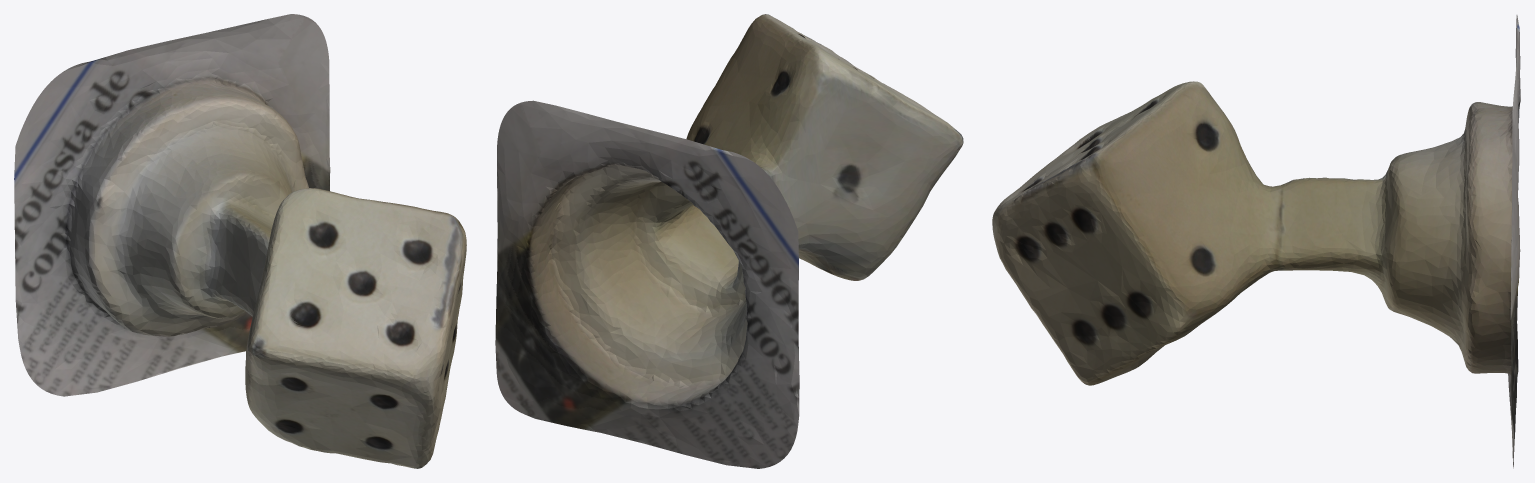
The model's file is Cubo.obj.
3 views of the same model, side by side, from view 1: azimuth 30°, elevation 25°; view 2: azimuth 150°, elevation 25°; view 3: azimuth 270°, elevation 25° (orthographic). The views are drawn at different scales.
Bounding box in the file's own units: 11.64 × 11.66 × 16.23.
2 materials, 1 textured.
